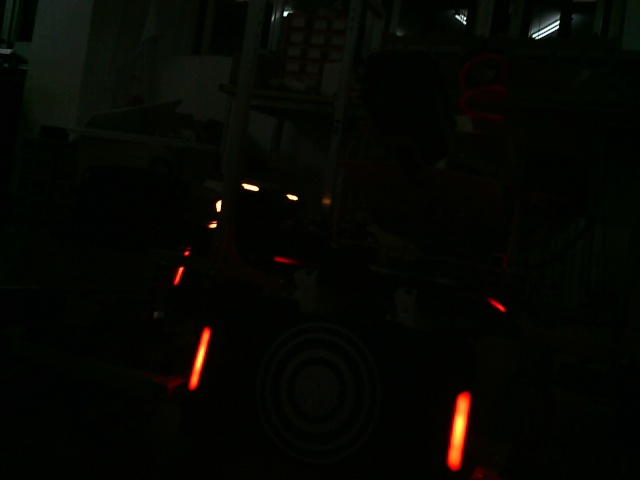lamp: (180, 318, 213, 397), (446, 391, 472, 472)
